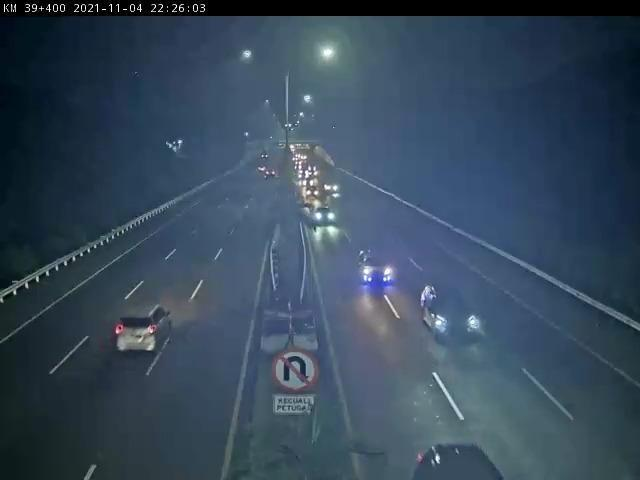car: (420, 280, 490, 348), (419, 436, 505, 480), (115, 302, 180, 356), (356, 237, 399, 297), (313, 204, 342, 227), (323, 182, 343, 197), (303, 186, 320, 201)
